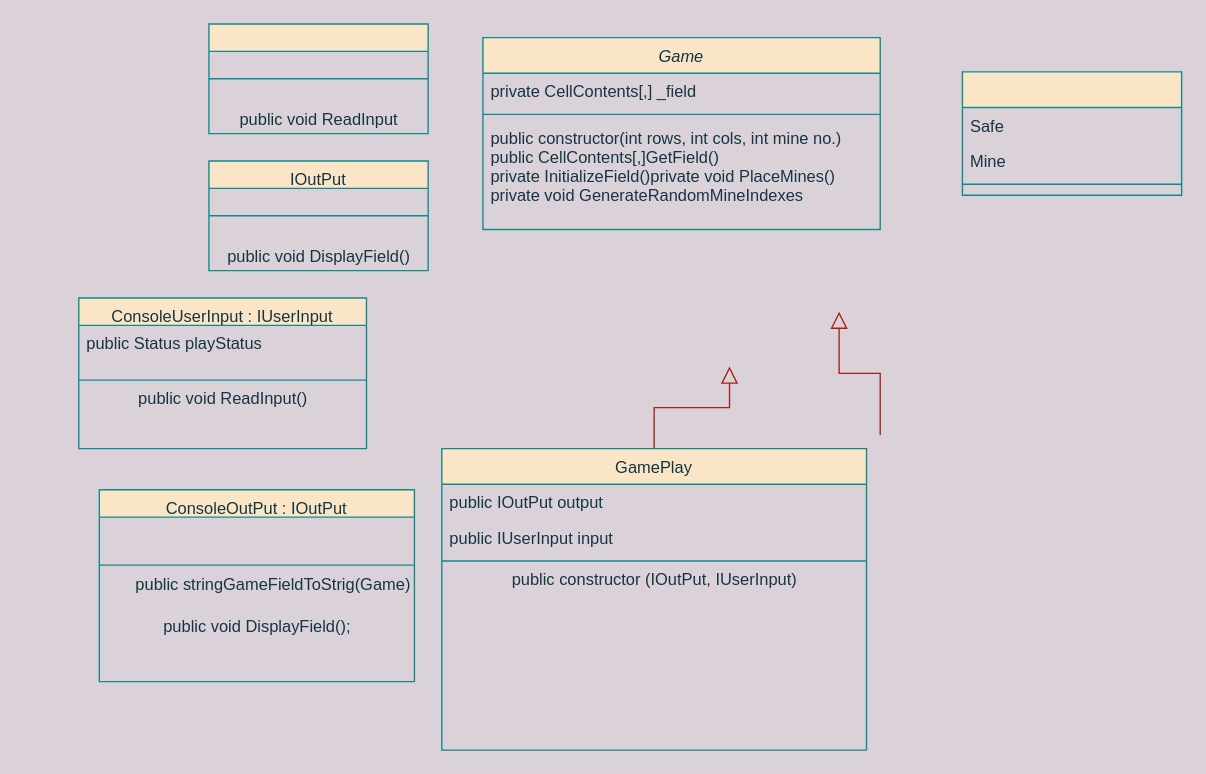
This 1206x774 diagram has some shape labels left out. Each missing label, with the box of its shape:
enum CellContents: (961, 71, 1182, 195)
IUserInput: (208, 23, 428, 134)
